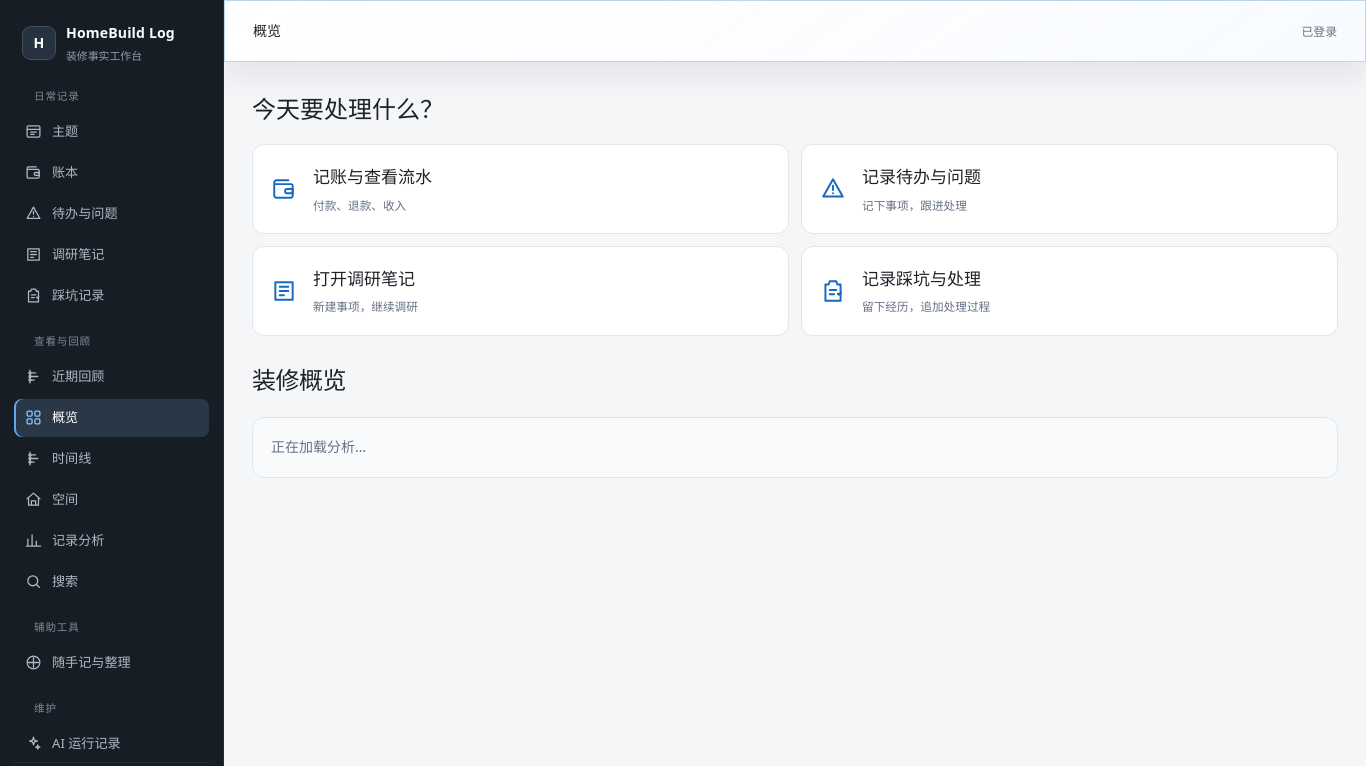
Test case: CoreViews › 只读详情直接展示类型核心事实：{"record_type":"measurement","object_name":"门洞","values":[{"axis":"width","value":90,"unit":"cm"}]}
This screenshot has width=1366, height=766.
Click the button "时间线".
click(112, 459)  # box [14,440,209,478]
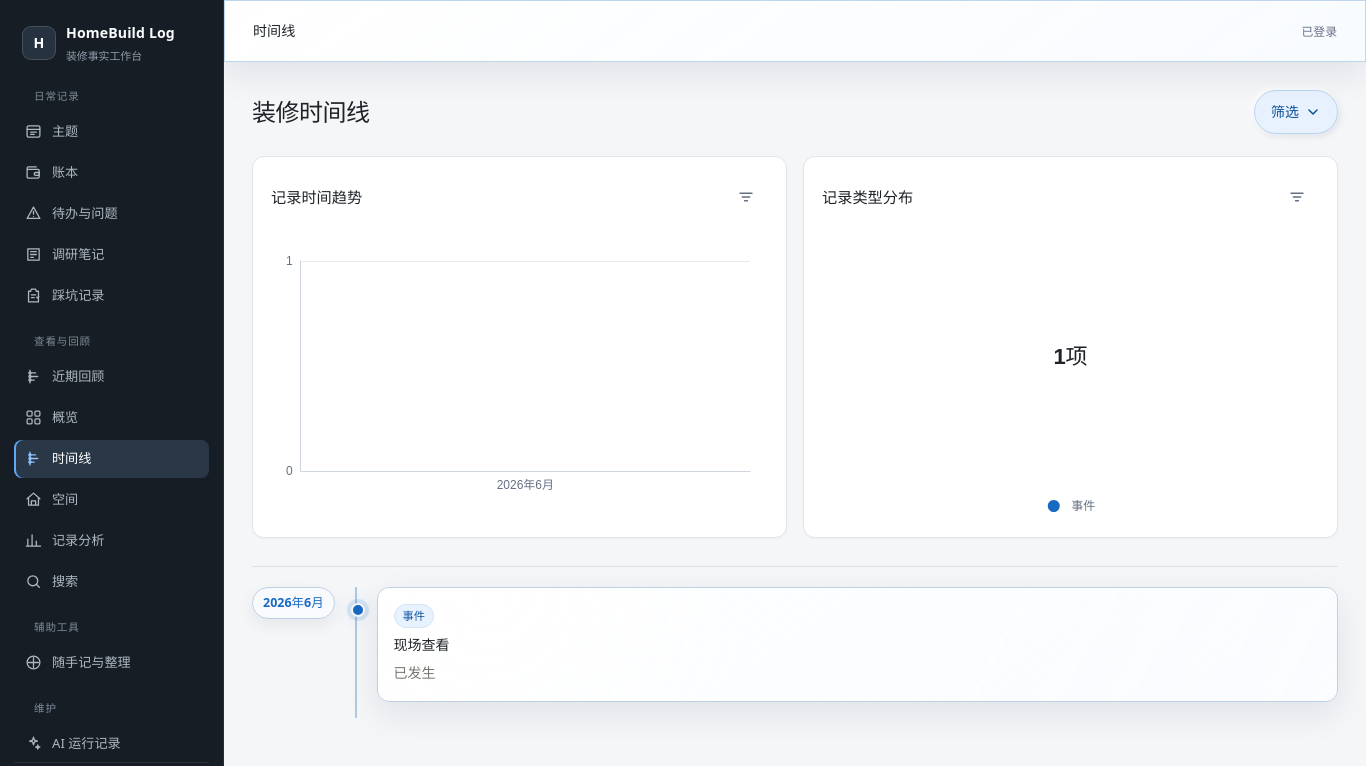
Click the button "事件 现场查看 已发生".
click(414, 616)  # box [377,587,1338,702]
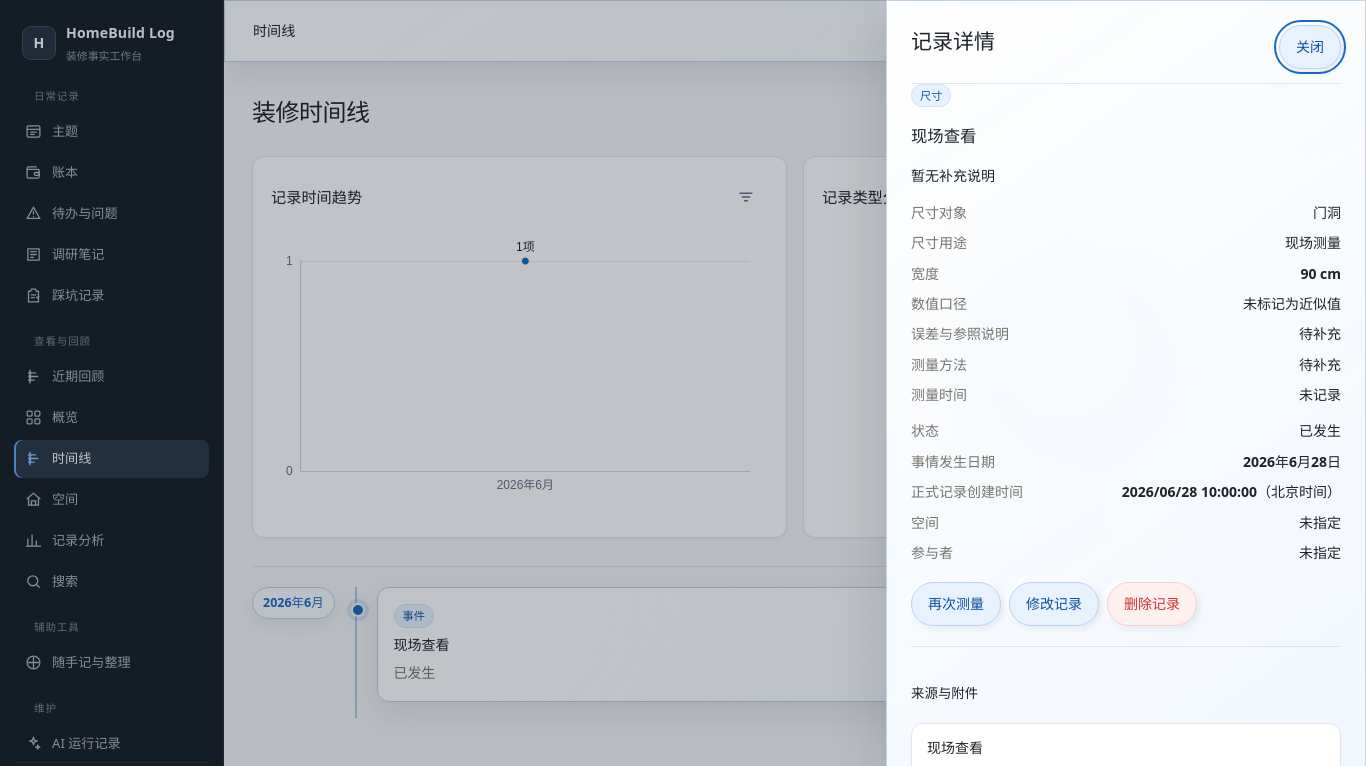
Expected: the text "门洞" is shown, [1313,202,1341,224]
Expected: the text "90 cm" is shown, [1300,262,1341,285]
